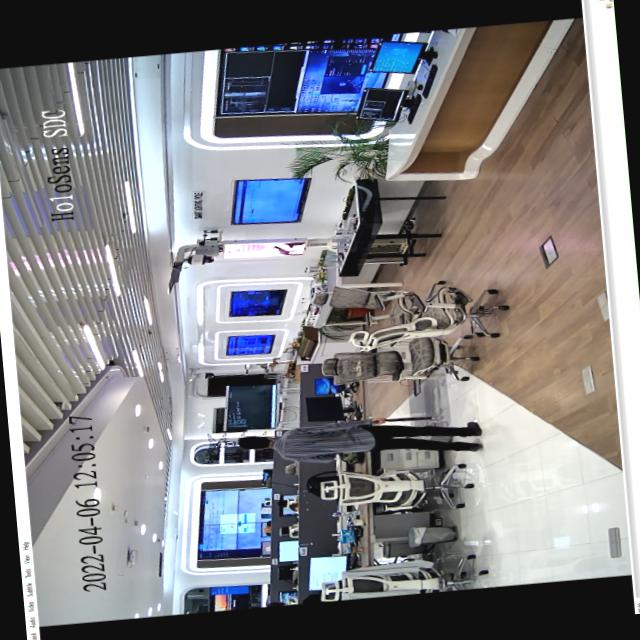long weapon: (357, 409, 446, 427)
